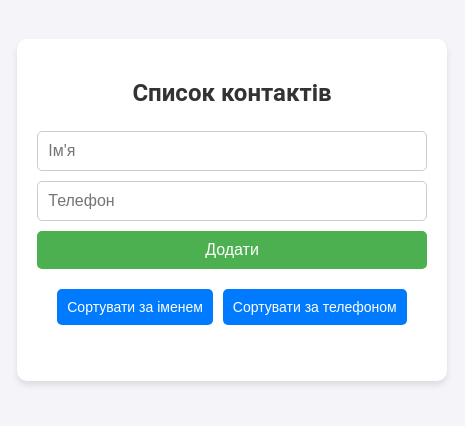
Test: Додаток контактів - тести › Додає контакт і відображає його у списку
Step 1. Type "Максим" into the field with placeholder "Ім" → (232, 151), box left=37, top=131, right=427, bottom=171
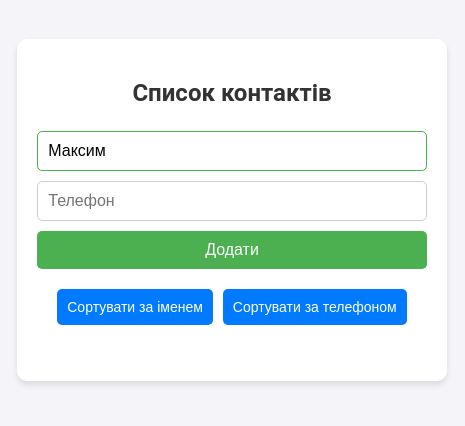
Step 2. Type "999888777" into the field with placeholder "Телефон" → (232, 201), box left=37, top=181, right=427, bottom=221
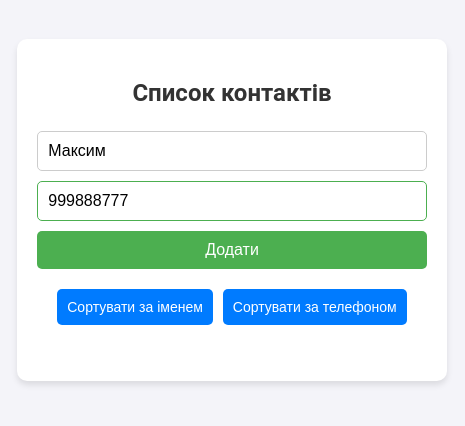
Step 3. Click the button "Додати" → (232, 250), box left=37, top=231, right=427, bottom=269
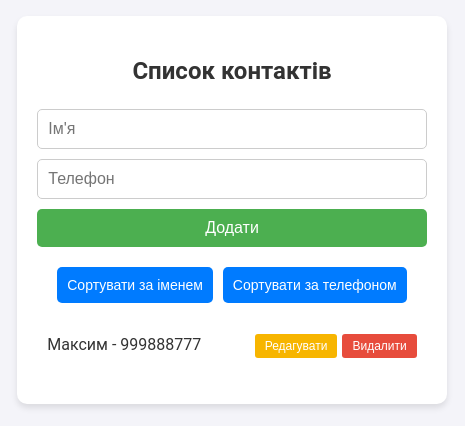
Expected: the list item "Максим - 999888777" is shown, left=47, top=334, right=417, bottom=358
